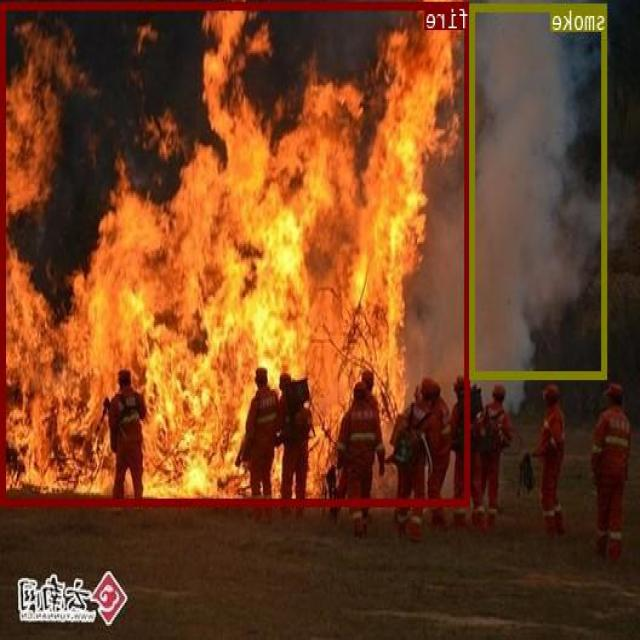fire: (2, 0, 471, 504)
smoke: (471, 2, 607, 378)
